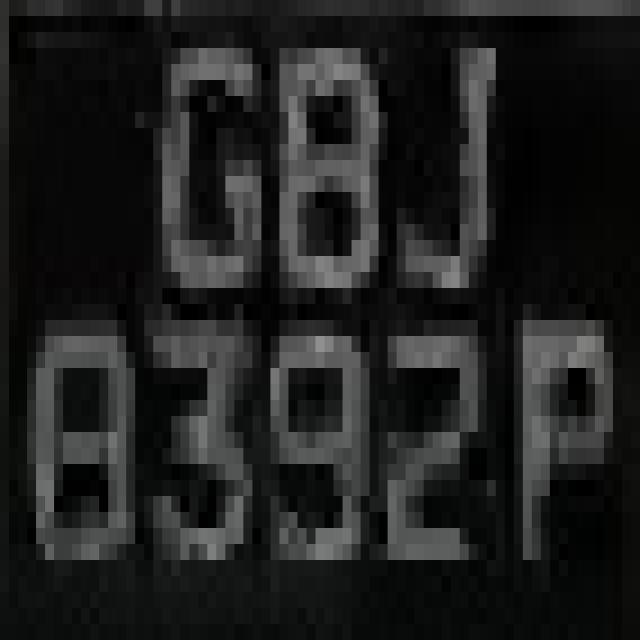2: (378, 288, 486, 608)
3: (144, 288, 252, 592)
8: (27, 288, 144, 608)
9: (252, 288, 378, 608)
B: (262, 32, 378, 352)
G: (144, 16, 270, 336)
J: (378, 16, 522, 304)
P: (496, 288, 613, 560)
